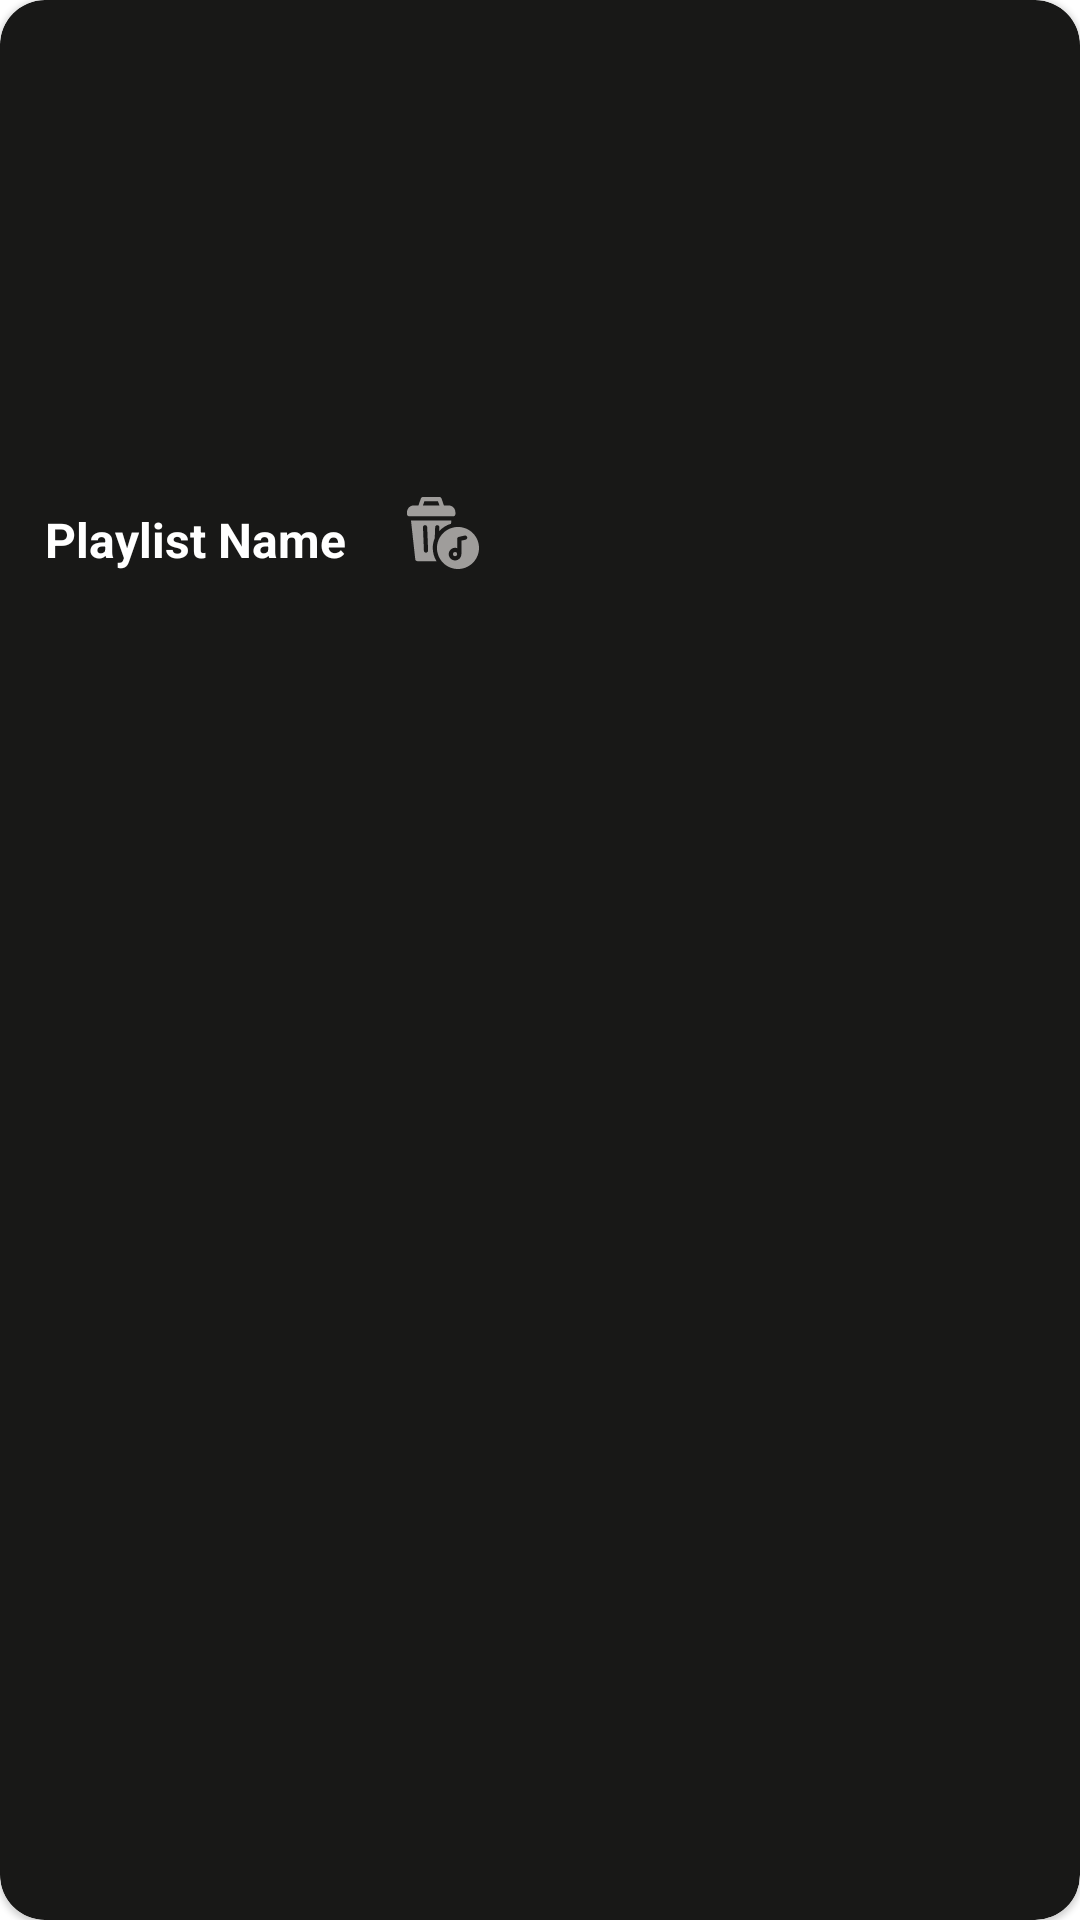

Point at icon controls on the screen. Image size 1080*1920, points as (x=x, y=y).
Playlist Delete: (x=443, y=533)
